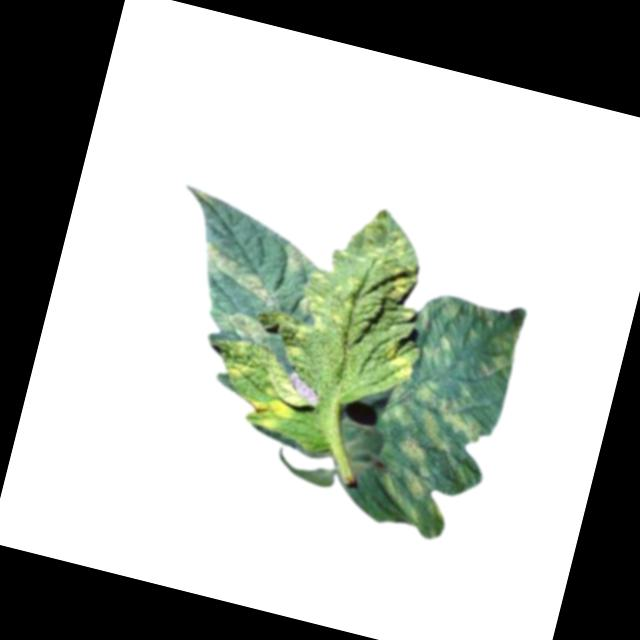Leaf_Mold: (359, 373, 486, 544), (299, 198, 437, 351), (409, 289, 500, 376), (194, 242, 288, 310), (232, 381, 299, 437), (209, 303, 279, 353), (480, 317, 531, 383), (379, 341, 419, 381)
